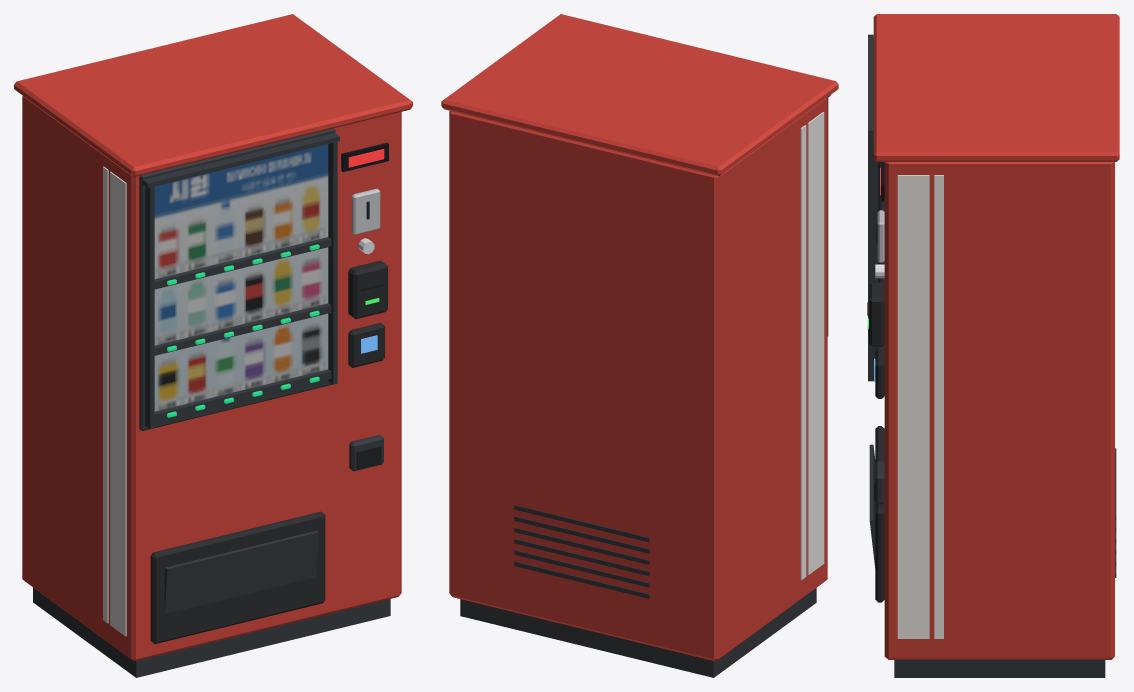
File: SC_Str_Vending_Machine_Drinks_Red.gltf
The picture shows the model from 3 angles, left to right: view 1: azimuth 30°, elevation 25°; view 2: azimuth 150°, elevation 25°; view 3: azimuth 270°, elevation 25°; orthographic projection. The views are drawn at different scales.
Visible parts, largest first — view 1: SC_Str_Vending_Machine_Drinks_Red; view 2: SC_Str_Vending_Machine_Drinks_Red; view 3: SC_Str_Vending_Machine_Drinks_Red.
Part boxes in pixels (<box>): SC_Str_Vending_Machine_Drinks_Red: <box>14,14,412,677</box>; SC_Str_Vending_Machine_Drinks_Red: <box>441,14,838,677</box>; SC_Str_Vending_Machine_Drinks_Red: <box>867,14,1119,677</box>.
Bounding box in the file's own units: 1.04 × 1.84 × 0.79.
Materials: 3 (3 with a texture image).
